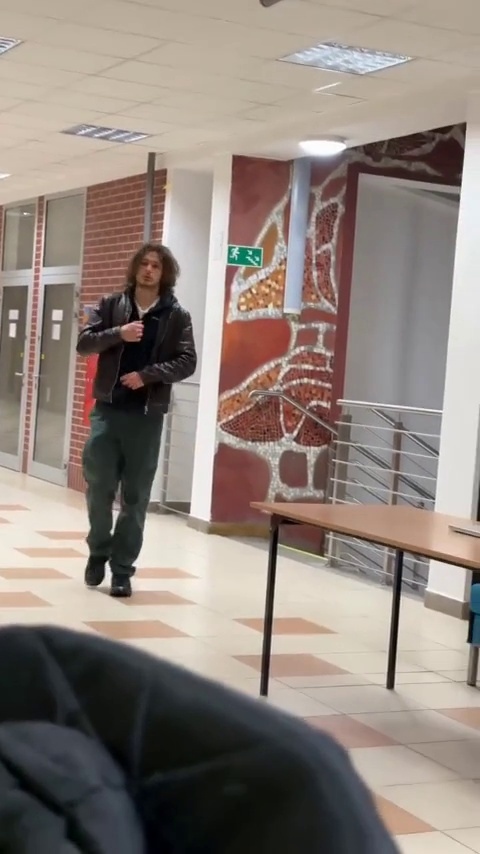no vest: (80, 245, 199, 597)
